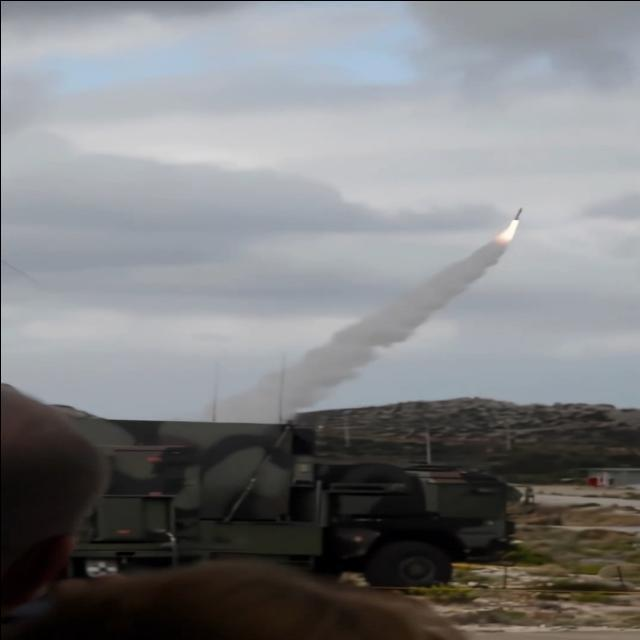missile: (514, 207, 522, 220)
